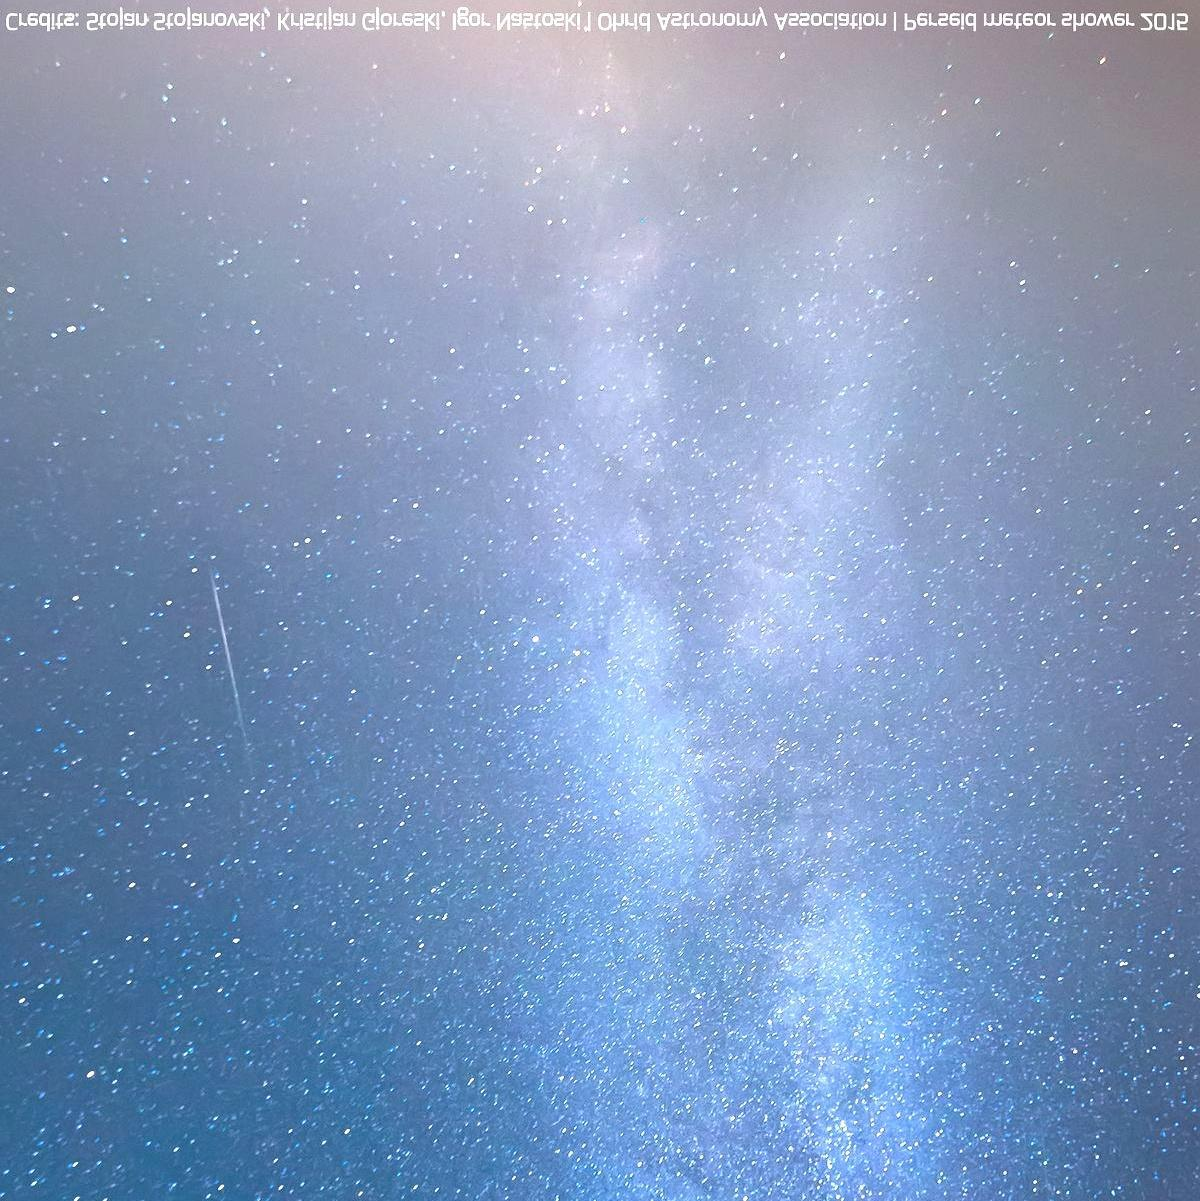meteorite: (192, 553, 258, 743)
